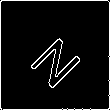N_NE: (23, 23, 87, 87)
